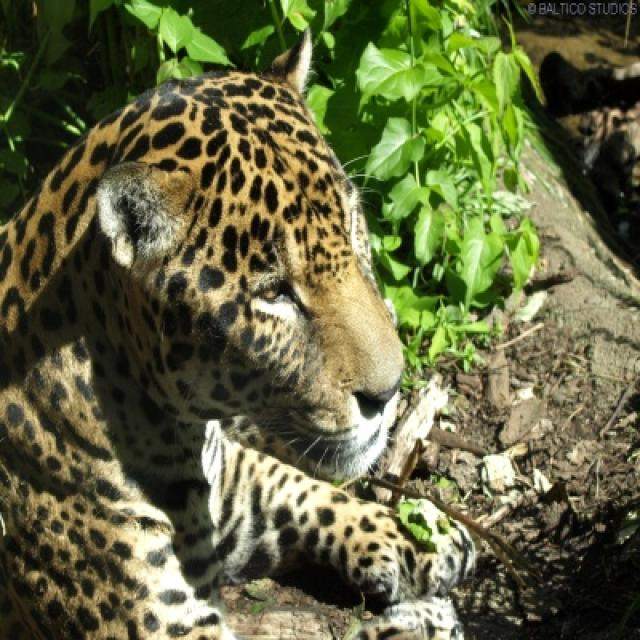Jaguar: (0, 48, 406, 638)
